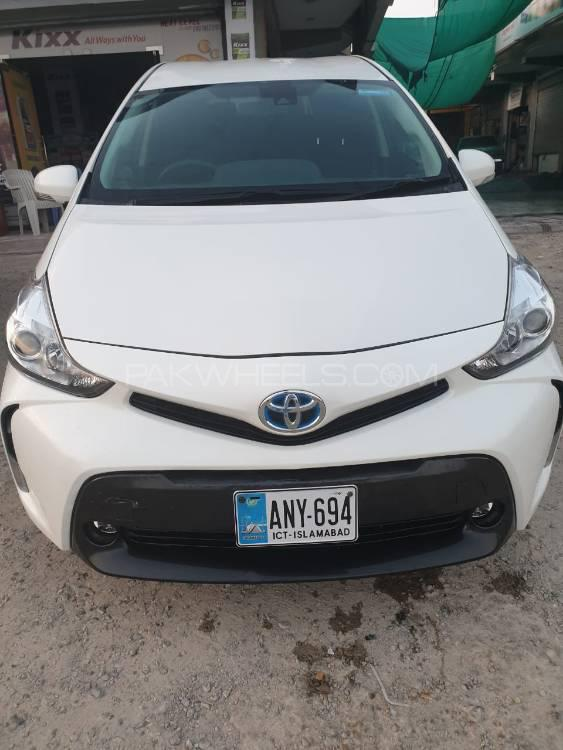license plate: (236, 489, 360, 542)
